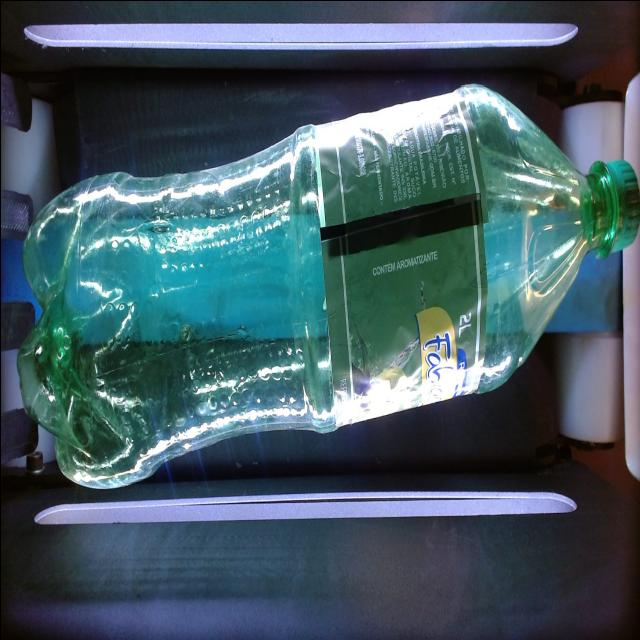bottle: (17, 85, 640, 487)
